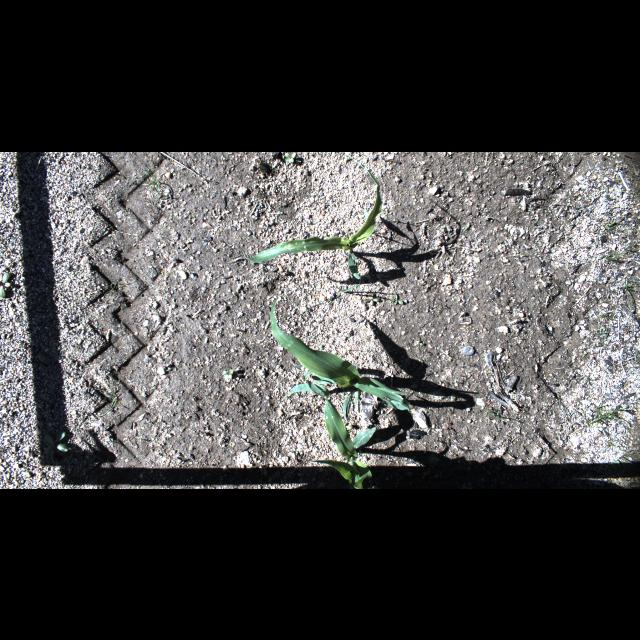crop: (242, 154, 382, 278), (270, 296, 410, 419), (309, 398, 377, 488)
weed: (304, 275, 362, 315), (130, 166, 170, 204), (588, 403, 630, 437), (600, 213, 632, 239), (620, 276, 640, 316), (42, 430, 70, 454), (98, 387, 118, 418), (482, 405, 508, 425), (0, 272, 12, 296), (362, 292, 380, 306), (620, 451, 638, 465), (605, 438, 625, 450), (590, 326, 610, 336), (104, 281, 116, 295), (624, 243, 638, 255), (388, 294, 404, 304), (604, 252, 624, 260), (569, 406, 585, 416), (631, 350, 639, 368), (600, 332, 610, 346), (223, 368, 234, 380), (600, 312, 616, 320), (364, 208, 372, 224), (284, 151, 296, 161), (580, 414, 590, 424), (340, 422, 352, 430), (232, 376, 242, 384), (514, 250, 524, 258), (634, 185, 640, 198), (611, 459, 619, 468), (449, 394, 457, 402), (416, 339, 424, 346), (440, 224, 446, 232), (461, 224, 469, 230), (450, 454, 458, 460), (556, 393, 562, 401), (562, 328, 566, 334), (564, 348, 568, 354), (278, 210, 282, 214), (319, 344, 323, 348), (252, 234, 256, 238)
